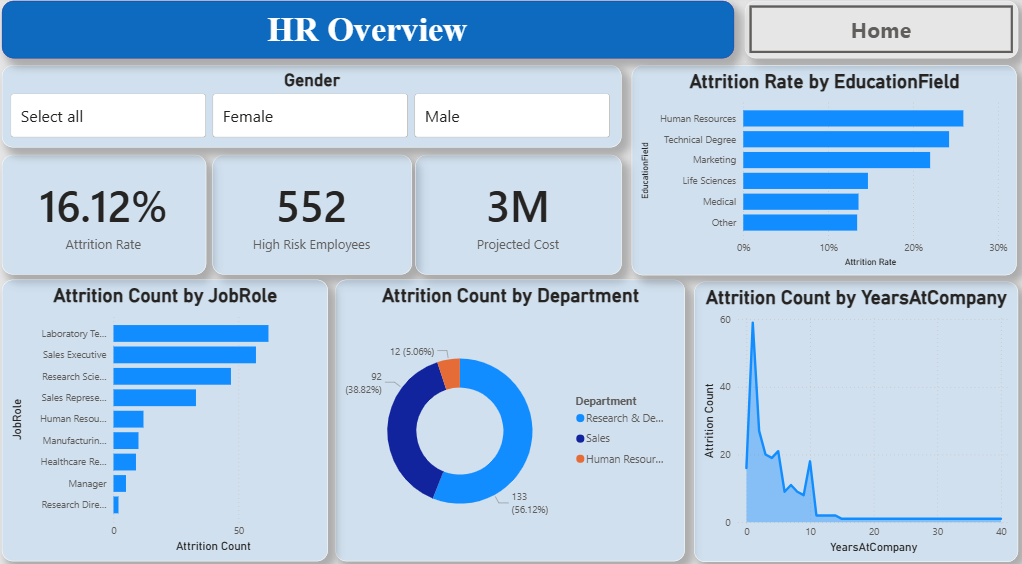

The dashboard page shown, as its layout file describes it:
{"tool":"powerbi","page":{"name":"Page 2","canvas":[1280,720],"ordinal":2},"visuals":[{"type":"cardVisual","fields":{"Data":["IBM_HR_Final_PowerBI.Attrition Rate"]},"box":[5.9,202,254.6,149.3],"z":0},{"type":"cardVisual","fields":{"Data":["IBM_HR_Final_PowerBI.High Risk Employees"]},"box":[266.3,202,248.8,149.3],"z":1000},{"type":"cardVisual","fields":{"Data":["IBM_HR_Final_PowerBI.Projected Cost"]},"box":[521,202,257.6,149.3],"z":2000},{"type":"donutChart","fields":{"Category":["IBM_HR_Final_PowerBI.Department"],"Y":["IBM_HR_Final_PowerBI.Attrition Count"]},"box":[421.5,358.5,436.1,351.2],"z":3000},{"type":"clusteredBarChart","fields":{"Category":["IBM_HR_Final_PowerBI.JobRole"],"Y":["IBM_HR_Final_PowerBI.Attrition Count"]},"box":[5.9,358.5,406.8,351.2],"z":4000},{"type":"actionButton","box":[930.7,8.8,341,71.7],"z":5000},{"type":"advancedSlicerVisual","fields":{"Values":["IBM_HR_Final_PowerBI.Gender"]},"box":[5.9,89.3,772.7,102.4],"z":6000},{"type":"areaChart","fields":{"Category":["IBM_HR_Final_PowerBI.YearsAtCompany"],"Y":["IBM_HR_Final_PowerBI.Attrition Count"]},"box":[867.8,360,403.9,349.8],"z":7000},{"type":"clusteredBarChart","fields":{"Category":["IBM_HR_Final_PowerBI.EducationField"],"Y":["IBM_HR_Final_PowerBI.Attrition Rate"]},"box":[791.7,89.3,480,262],"z":8000},{"type":"textbox","box":[5.9,8.8,913.2,71.7],"z":9000}]}

Visuals, with their boxes in screenshot pixels (x1, y1, x2, y2), scaled from the page's 1280x720 canvas onto the 1022x564 screenshot:
cardVisual - IBM_HR_Final_PowerBI.Attrition Rate: <bbox>5, 158, 208, 275</bbox>
cardVisual - IBM_HR_Final_PowerBI.High Risk Employees: <bbox>213, 158, 411, 275</bbox>
cardVisual - IBM_HR_Final_PowerBI.Projected Cost: <bbox>416, 158, 622, 275</bbox>
donutChart - IBM_HR_Final_PowerBI.Department x IBM_HR_Final_PowerBI.Attrition Count: <bbox>337, 281, 685, 556</bbox>
clusteredBarChart - IBM_HR_Final_PowerBI.JobRole x IBM_HR_Final_PowerBI.Attrition Count: <bbox>5, 281, 330, 556</bbox>
actionButton: <bbox>743, 7, 1015, 63</bbox>
advancedSlicerVisual - IBM_HR_Final_PowerBI.Gender: <bbox>5, 70, 622, 150</bbox>
areaChart - IBM_HR_Final_PowerBI.YearsAtCompany x IBM_HR_Final_PowerBI.Attrition Count: <bbox>693, 282, 1015, 556</bbox>
clusteredBarChart - IBM_HR_Final_PowerBI.EducationField x IBM_HR_Final_PowerBI.Attrition Rate: <bbox>632, 70, 1015, 275</bbox>
textbox: <bbox>5, 7, 734, 63</bbox>
